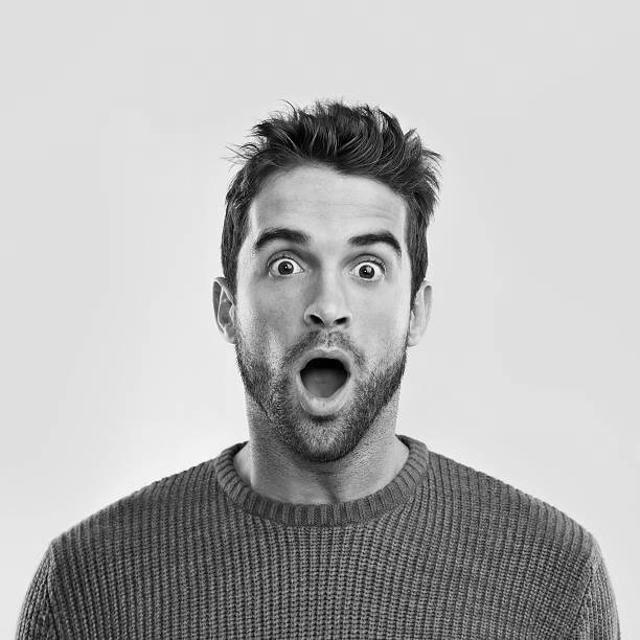Surprised: (230, 155, 414, 472)
